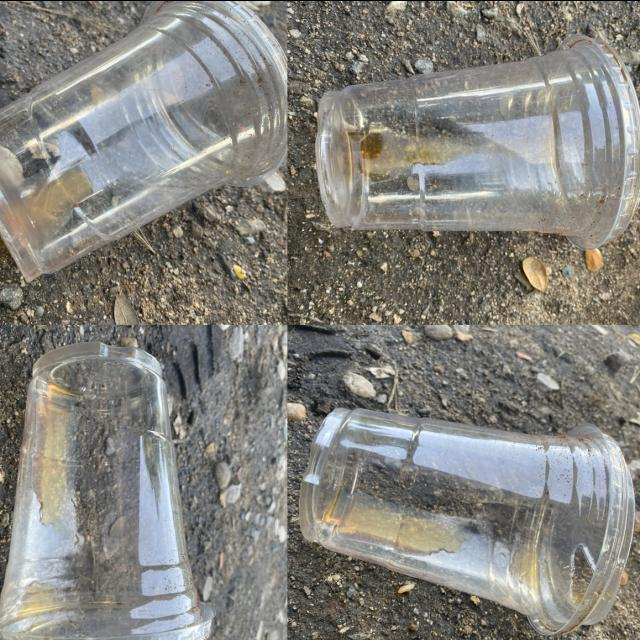plastik: (0, 0, 286, 280), (300, 407, 634, 632), (316, 34, 640, 248), (0, 340, 216, 640)
